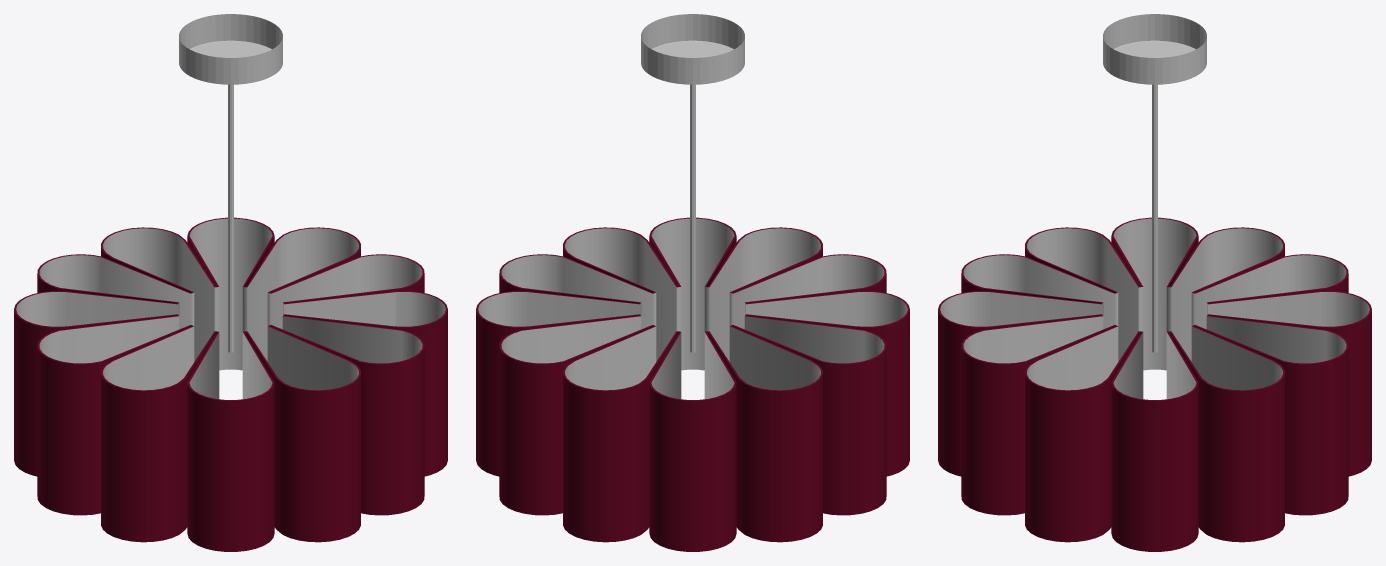
File: light-living.FBX
3 renders of one model, left to right at view 1: azimuth 30°, elevation 25°; view 2: azimuth 150°, elevation 25°; view 3: azimuth 270°, elevation 25°, orthographic.
Parts seen in each view (by area): view 1: putong018, putong019, putong025; view 2: putong018, putong019, putong025; view 3: putong018, putong019, putong025.
Part boxes in pixels (left/top/right/bottom): putong018: left=14, top=217, right=447, bottom=551; putong019: left=16, top=218, right=445, bottom=399; putong025: left=179, top=14, right=282, bottom=352; putong018: left=476, top=217, right=909, bottom=551; putong019: left=478, top=218, right=907, bottom=399; putong025: left=641, top=14, right=744, bottom=352; putong018: left=938, top=217, right=1371, bottom=551; putong019: left=940, top=218, right=1369, bottom=399; putong025: left=1103, top=14, right=1206, bottom=352.
Size of the model in its own units: 68.06 by 73.56 by 68.17.
